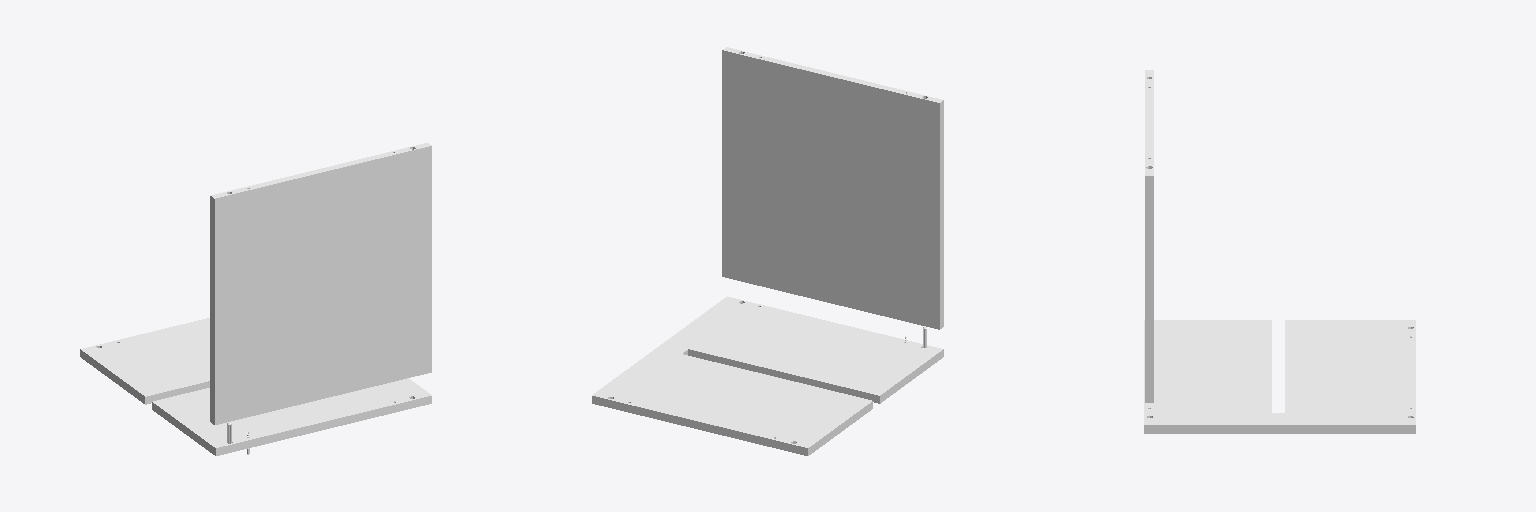
The model's file is 869164_DETTAGLIO.obj.
The picture shows the model from 3 angles: view 1: azimuth 30°, elevation 25°; view 2: azimuth 150°, elevation 25°; view 3: azimuth 270°, elevation 25°; orthographic projection.
Parts seen in each view (by area): view 1: Box072, Box048; view 2: Box072, Box048; view 3: Box048, Box072.
Boxes of the visible parts, x1,y1,x2,y2 form: Box072: [210, 143, 431, 424]; Box048: [80, 318, 431, 455]; Box072: [722, 47, 943, 329]; Box048: [592, 296, 943, 455]; Box048: [1144, 320, 1415, 433]; Box072: [1145, 70, 1153, 402].
Bounding box in the file's own units: 25.3 × 29.61 × 27.32.